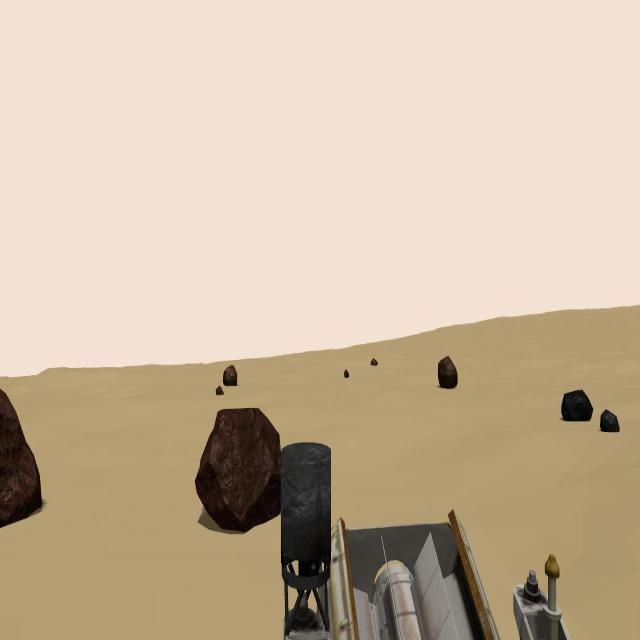rock: (196, 407, 281, 534), (0, 387, 42, 529), (561, 389, 594, 420), (438, 354, 458, 389), (600, 409, 620, 432), (224, 364, 238, 386), (215, 385, 223, 396), (344, 368, 349, 378), (370, 359, 377, 366)
